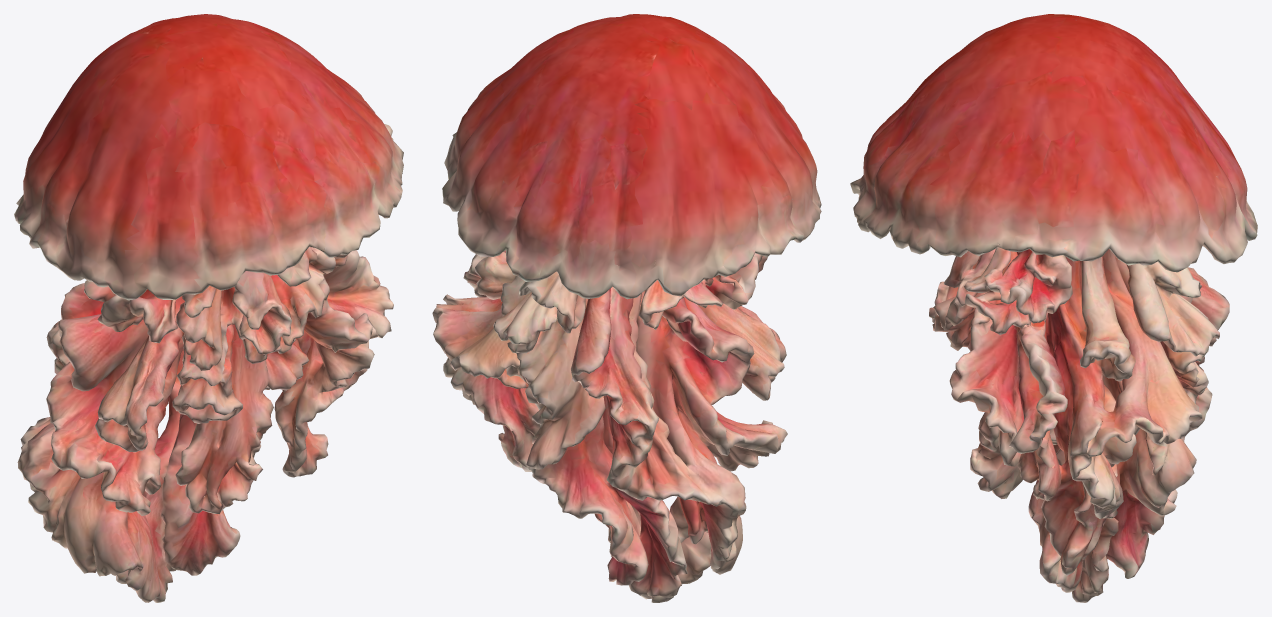
File: jellyfish.glb
3 renders of one model, left to right at view 1: azimuth 30°, elevation 25°; view 2: azimuth 150°, elevation 25°; view 3: azimuth 270°, elevation 25°, orthographic. The views are drawn at different scales.
Size of the model in its own units: 0.2527 by 0.4001 by 0.2512.
1 material, 1 textured.
